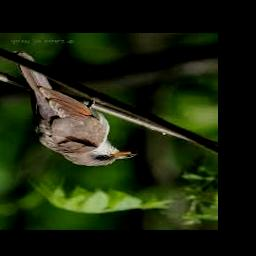Cuckoo: (14, 50, 137, 166)
